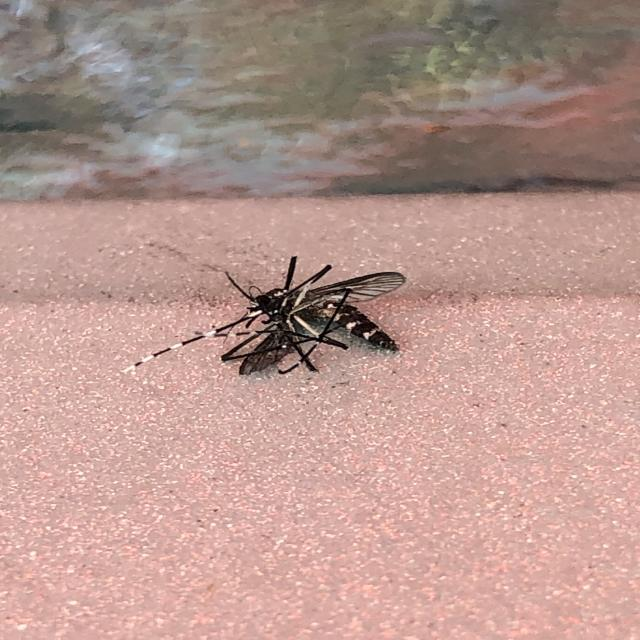albopictus: (138, 239, 412, 387)
